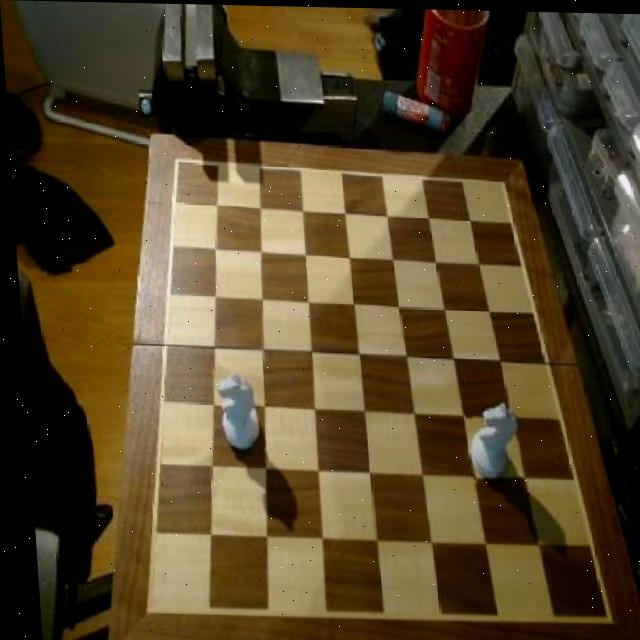white-king: (459, 398, 516, 482), (207, 368, 258, 456)
